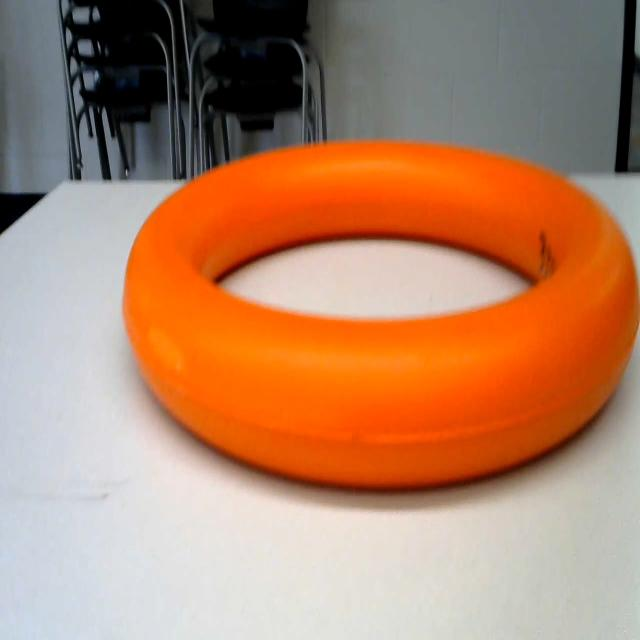note: (110, 113, 640, 477)
